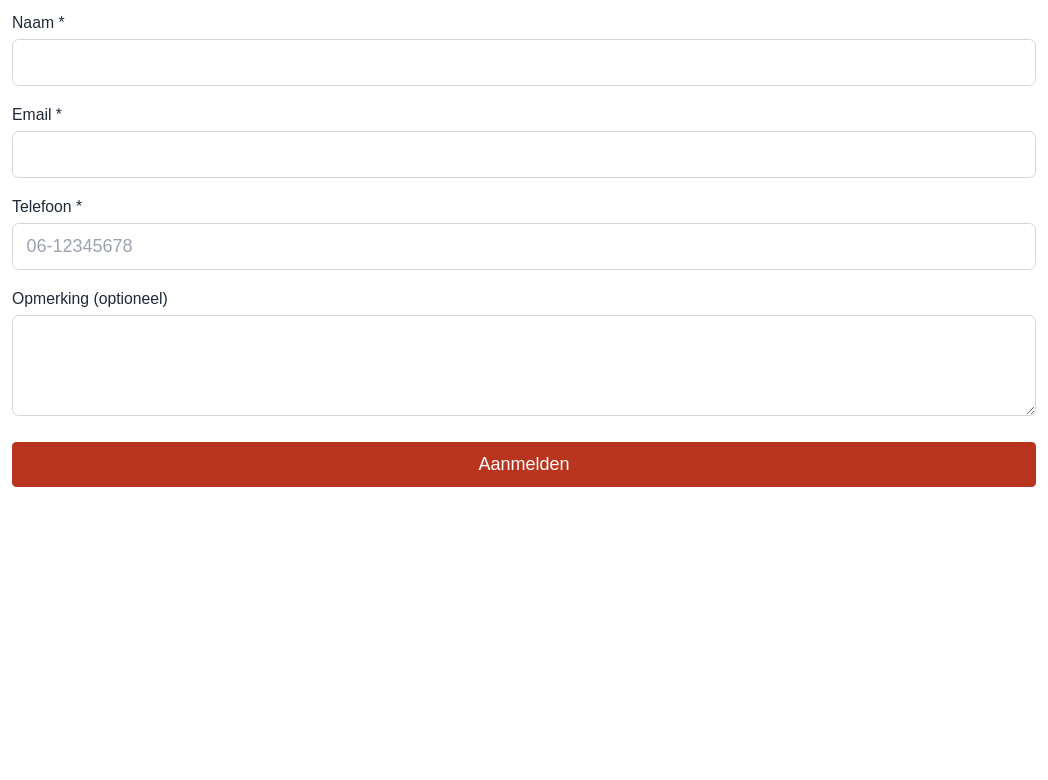
Test: AanmeldForm Component › Error Handling › 11. Handles network errors gracefully
The width and height of the screenshot is (1048, 780).
Type "John Doe" into the field labelled "Naam *" at coordinates (524, 62), box [12,39,1036,86]
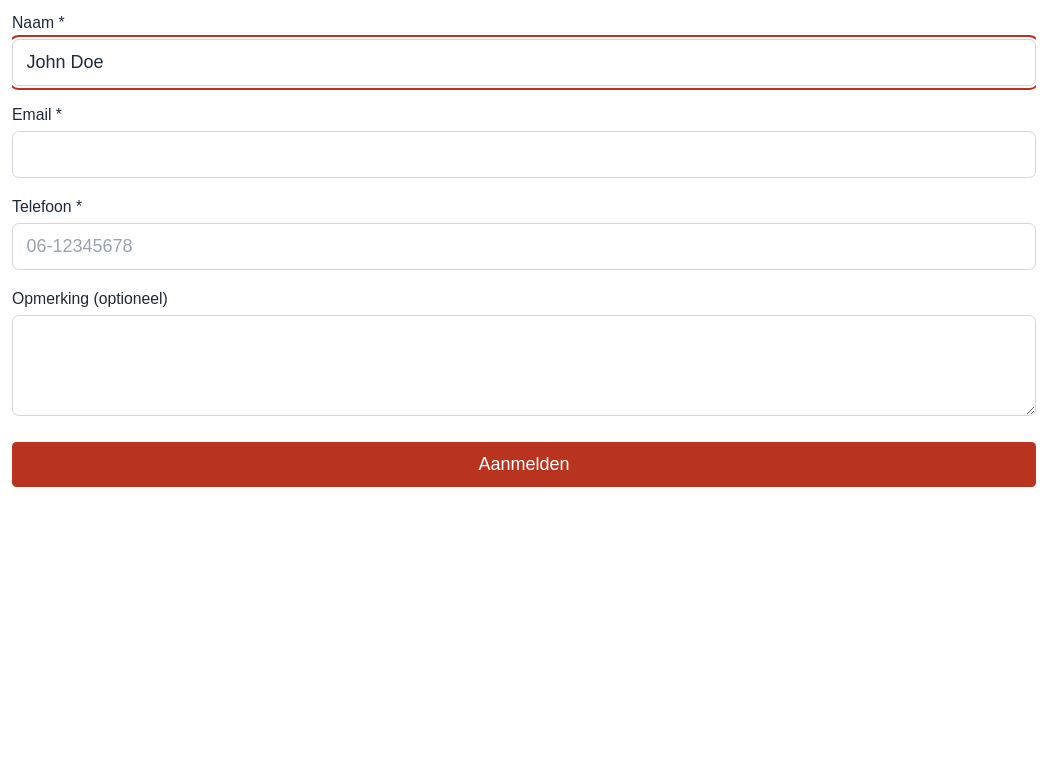
Type "john@example.com" into the field labelled "Email *" at coordinates (524, 154), box [12,131,1036,178]
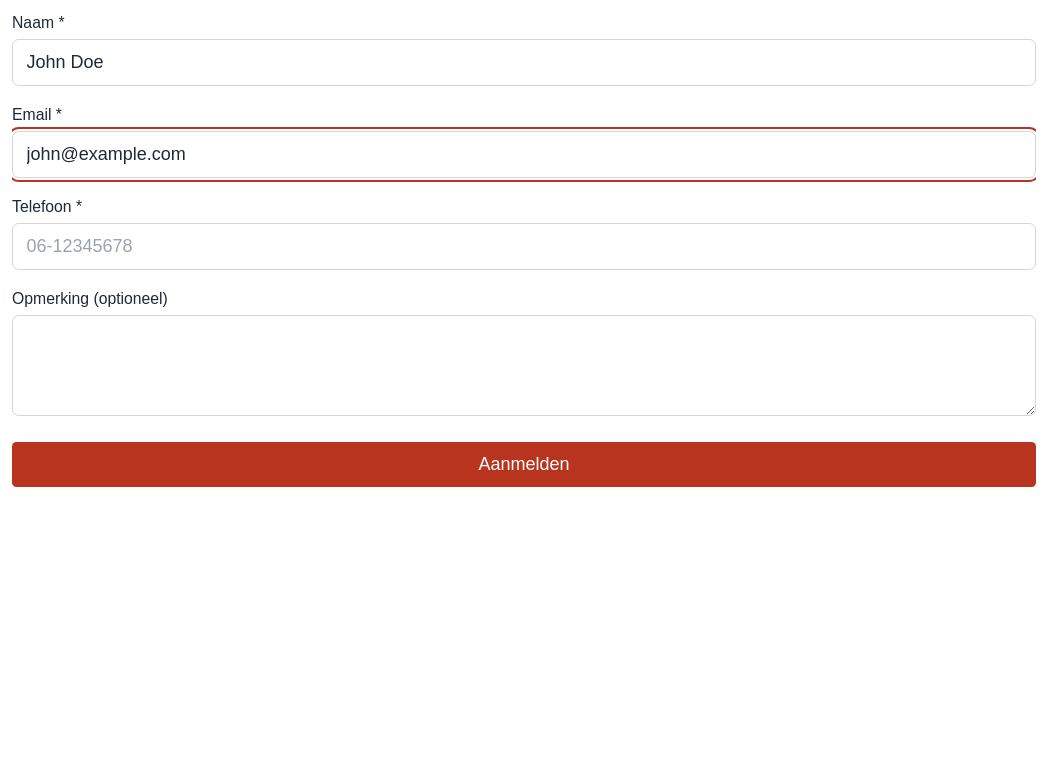
Type "0612345678" into the field labelled "Telefoon *" at coordinates (524, 246), box [12,223,1036,270]
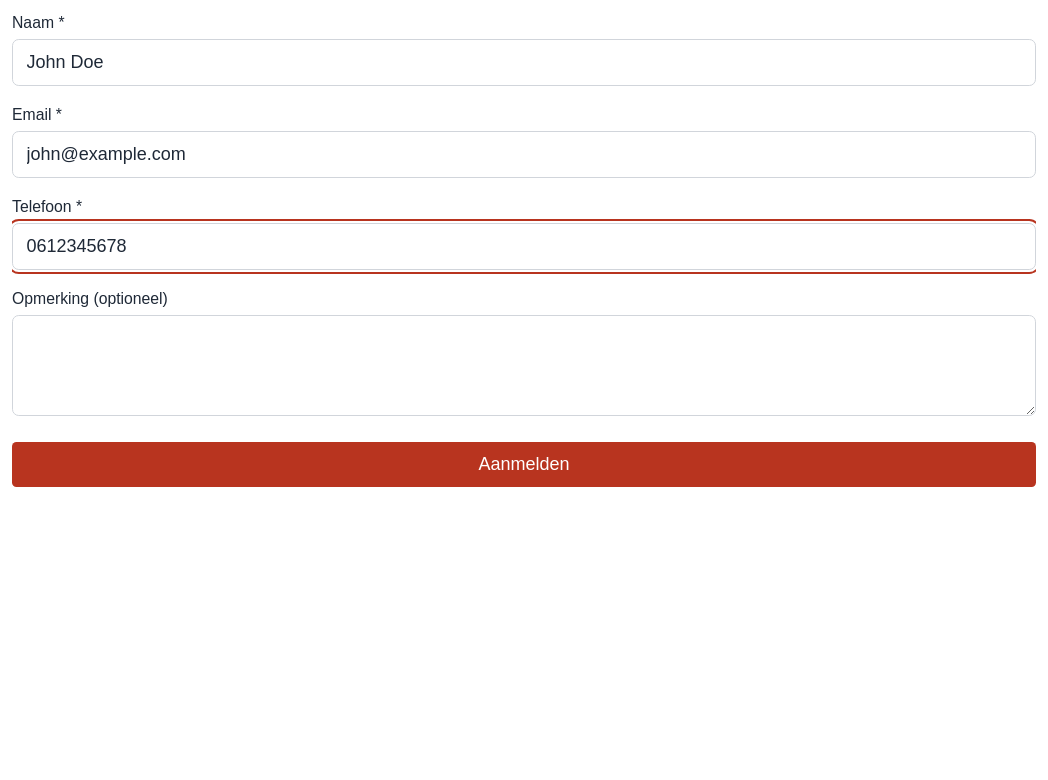
Click the button "Aanmelden" at coordinates (524, 464), box [12,442,1036,487]
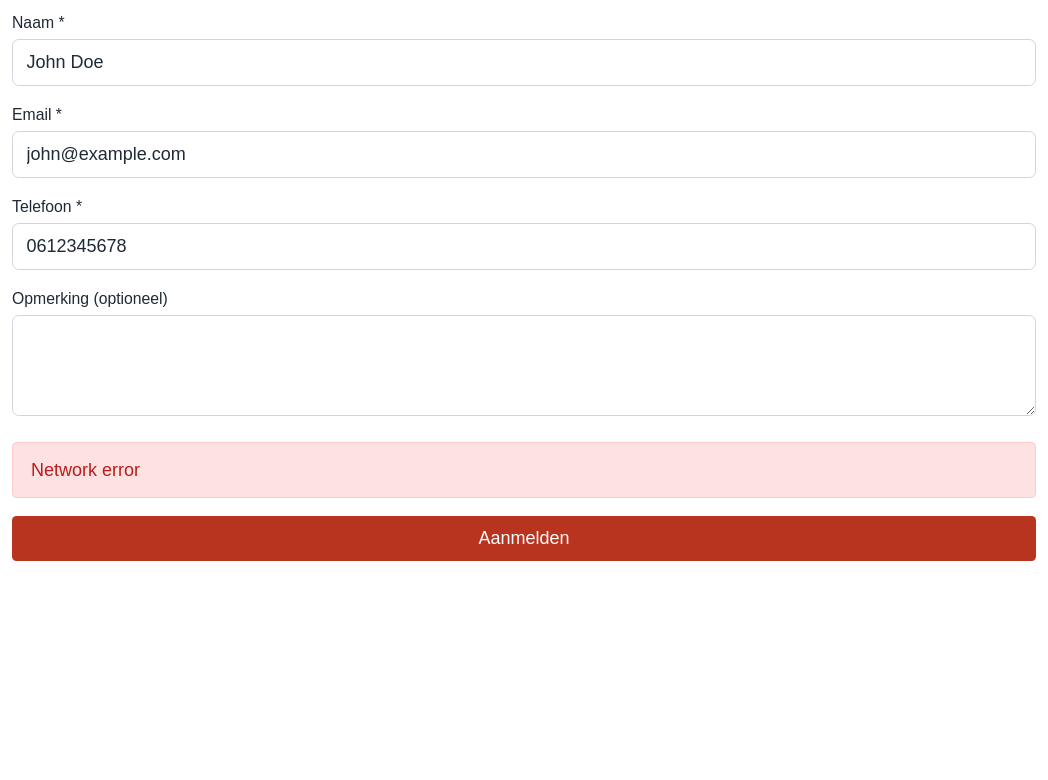
expect the text "Network error" is shown: met, box [12,442,1036,498]
